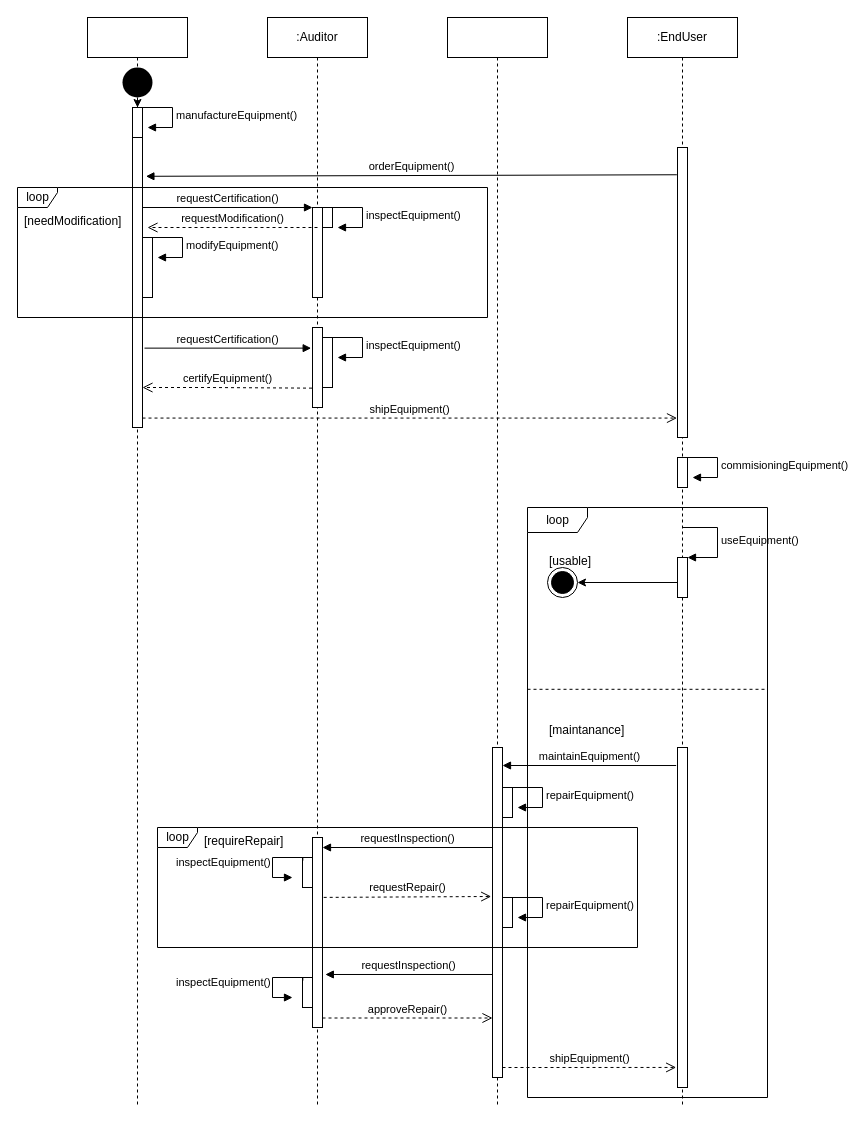
The diagram is 866 pixels wide and 1125 high, and some of its shapes have lost their labels. The box of each missing label's shape, as (x1, y1, x2, y2) in pixels:
:Maintainer: (446, 16, 548, 1108)
:Manufacturer: (86, 16, 188, 1108)
